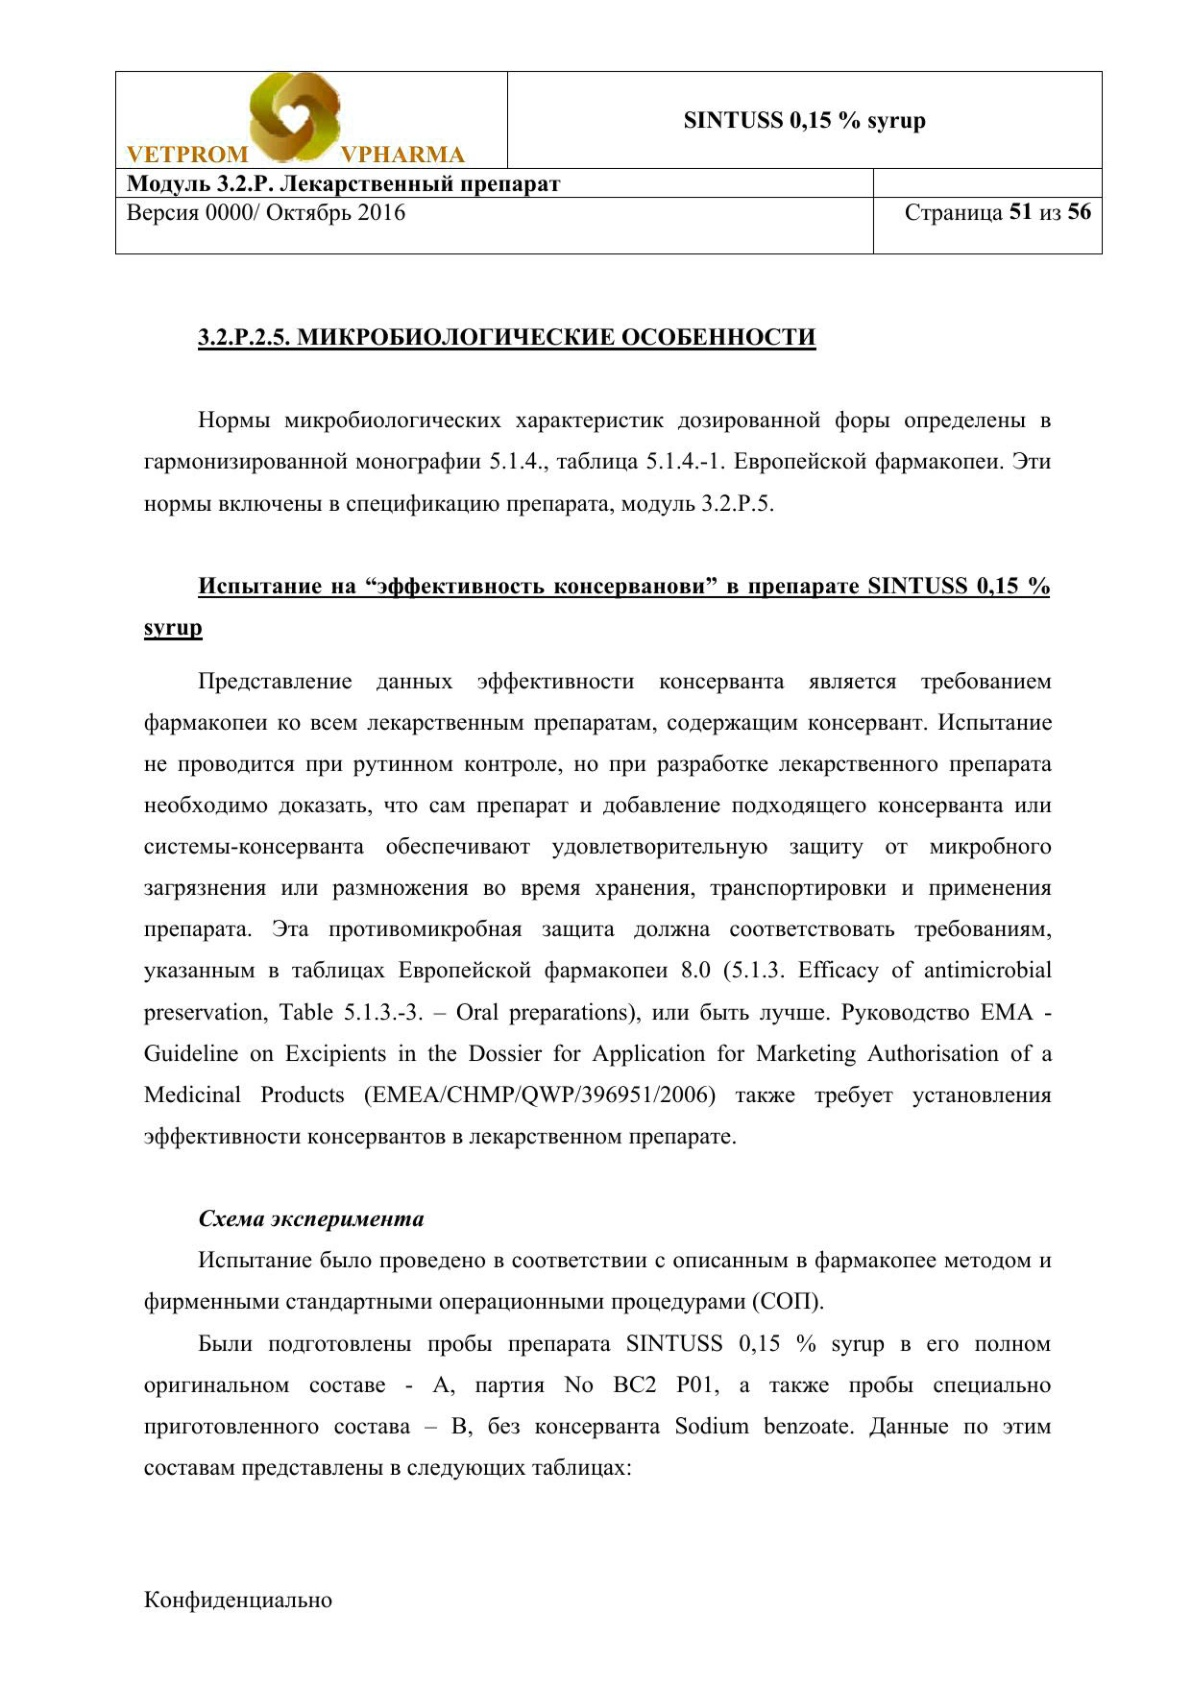merged_cells: (114, 68, 1104, 255)
